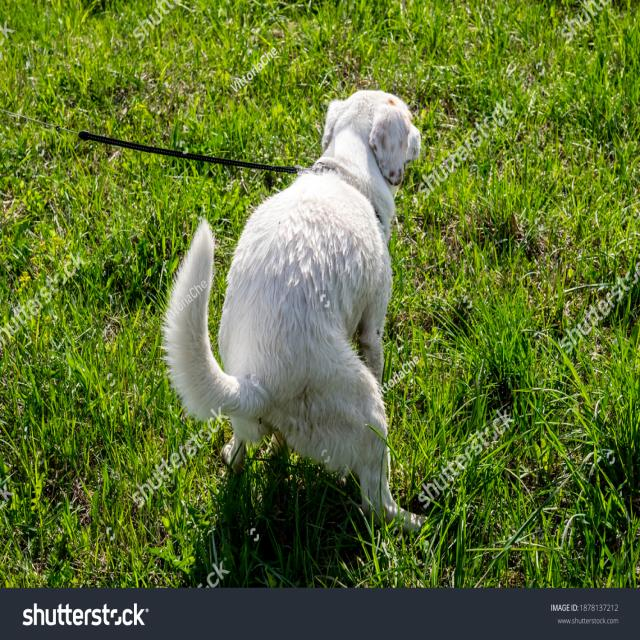Dogpoop: (164, 83, 437, 538)
